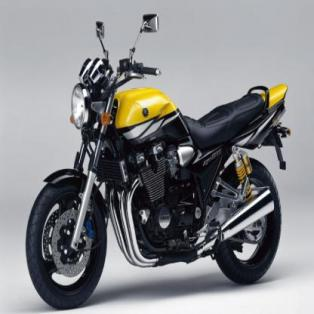Motocicleta: (19, 0, 294, 313)
